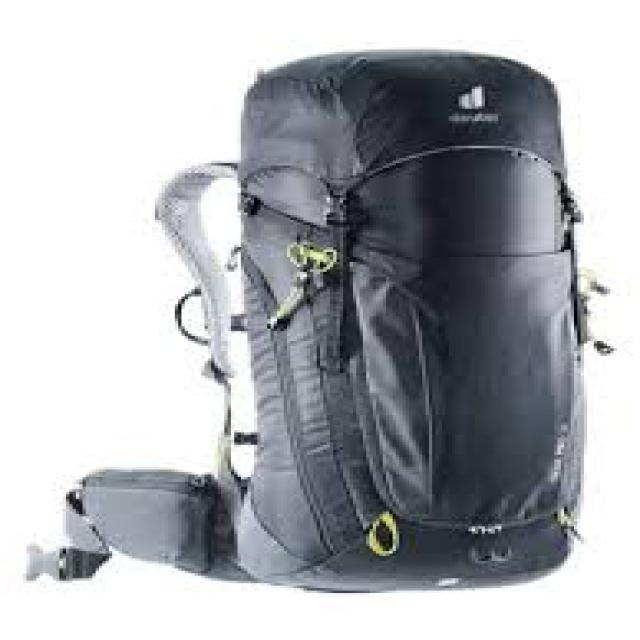backpack: (23, 47, 614, 593)
